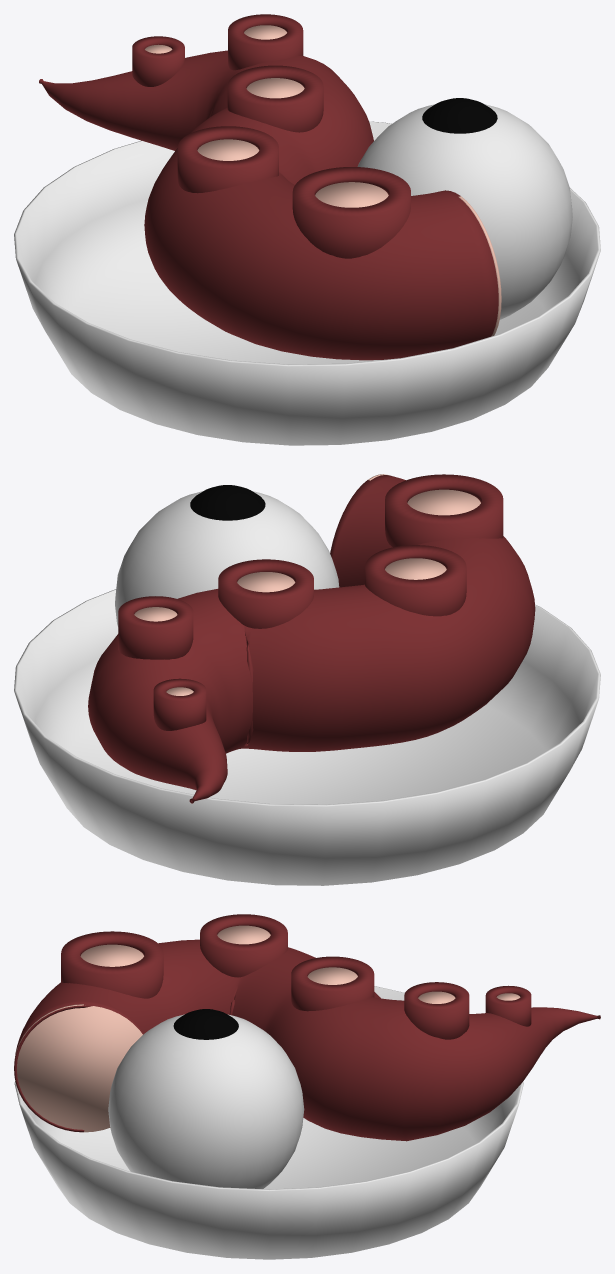
Rendered from EyeSteakMix 1.fbx.
3 views of the same model, one above another, from view 1: azimuth 30°, elevation 25°; view 2: azimuth 150°, elevation 25°; view 3: azimuth 270°, elevation 25° (orthographic). The views are drawn at different scales.
Visible parts, largest first — view 1: TheTentacleAndEye; view 2: TheTentacleAndEye; view 3: TheTentacleAndEye.
Part boxes in pixels (x1=…): TheTentacleAndEye: x1=14, y1=14, x2=600, y2=445; TheTentacleAndEye: x1=14, y1=474, x2=600, y2=885; TheTentacleAndEye: x1=14, y1=914, x2=600, y2=1259.
Bounding box in the file's own units: 131 × 58.01 × 151.
